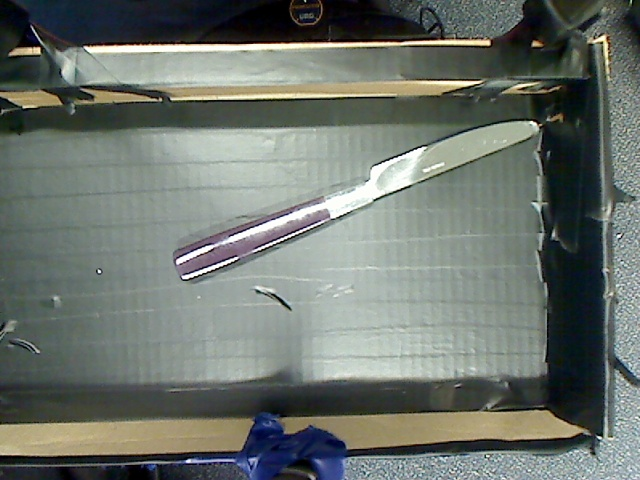knife: (157, 91, 555, 302)
